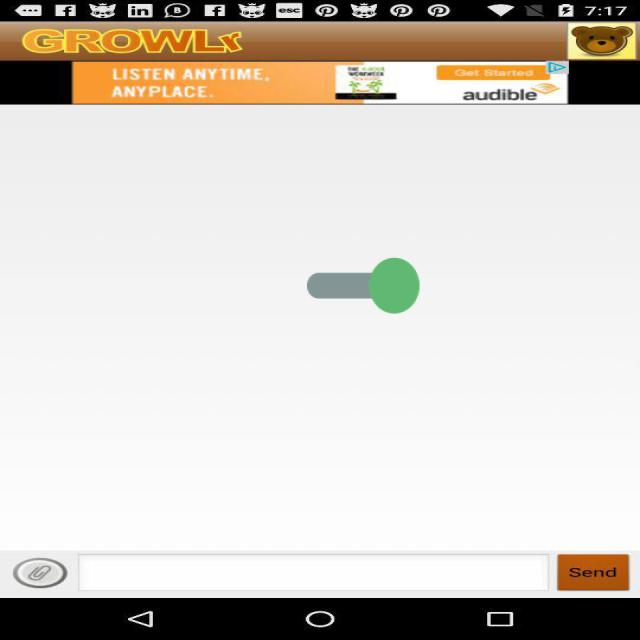social proof: (307, 223, 420, 348)
